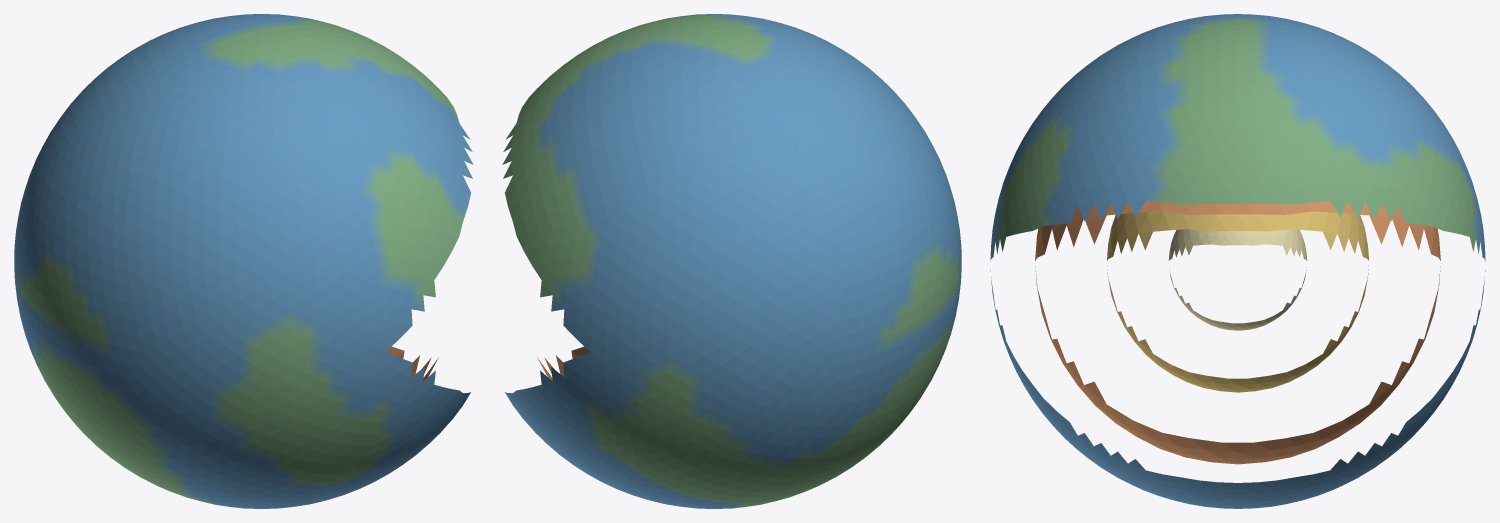
File: earth.glb
3 views of the same model, side by side, from view 1: azimuth 30°, elevation 25°; view 2: azimuth 150°, elevation 25°; view 3: azimuth 270°, elevation 25° (orthographic).
Parts seen in each view (by area): view 1: Surface / Crust; view 2: Surface / Crust; view 3: Surface / Crust, Mantle, Outer Core, Inner Core.
Boxes of the visible parts, x1,y1,x2,y2 form: Surface / Crust: [14, 14, 473, 508]; Surface / Crust: [502, 14, 961, 508]; Surface / Crust: [990, 14, 1485, 508]; Mantle: [1035, 200, 1440, 464]; Outer Core: [1107, 211, 1368, 392]; Inner Core: [1168, 229, 1307, 330].
Size of the model in its own units: 1.78 by 2 by 2.
